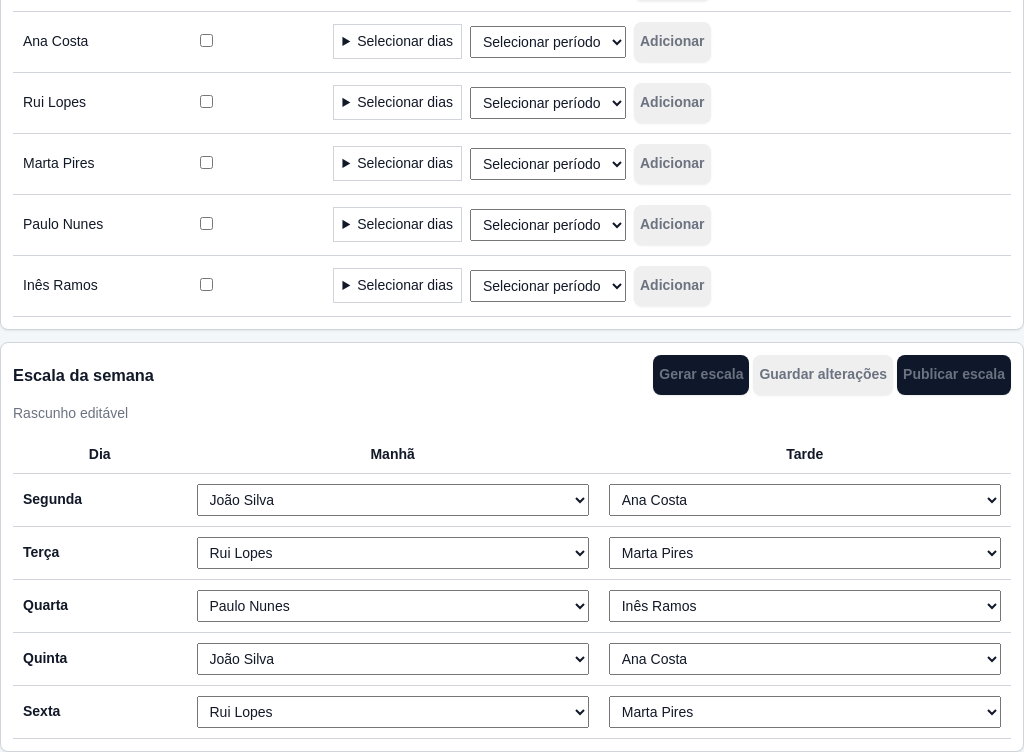
Test: Servicos › publica um rascunho e mantém a escala editável após a publicação
(page scrolled)
Click the button "Publicar escala": x=954, y=375 [897,355,1011,395]
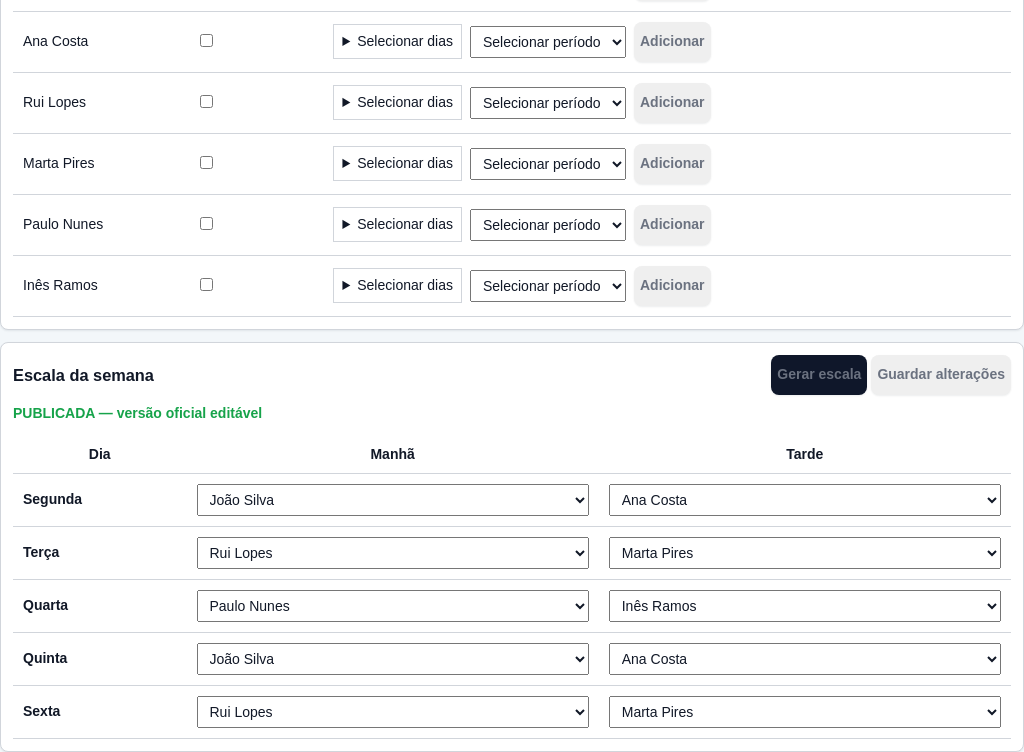
Expected: the button "Guardar alterações" is shown, [871,355,1011,395]
Now the text "PUBLICADA — versão oficial editável" is shown, box [13,405,262,421]
Now the button "Publicar escala" is gone
